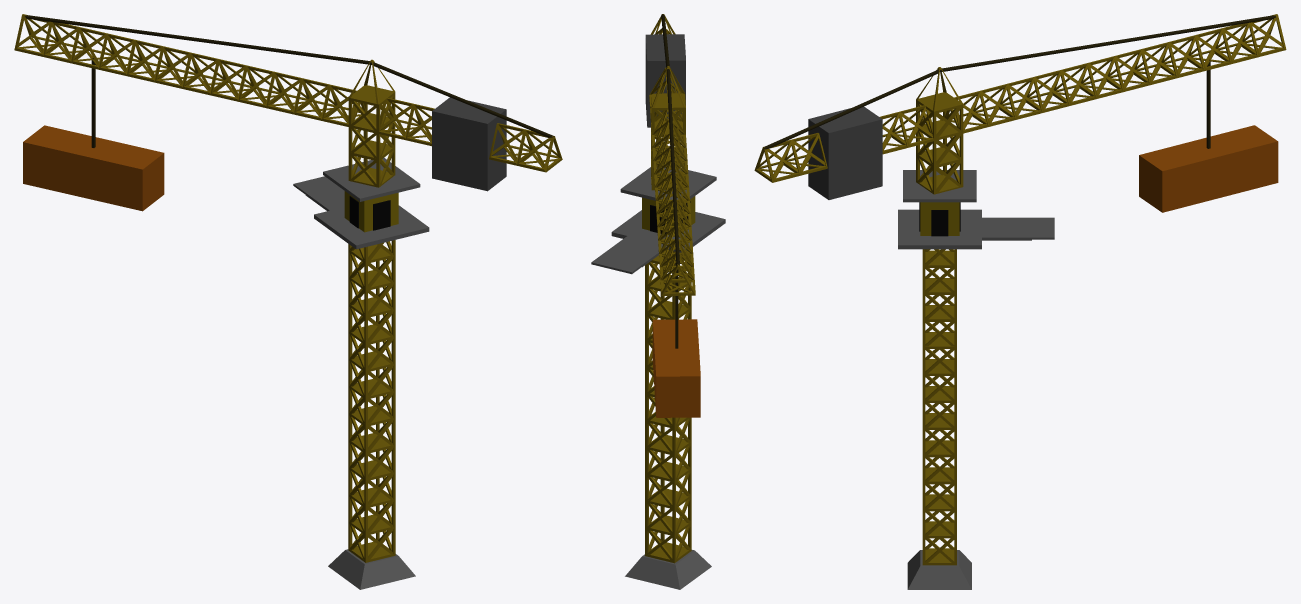
The model's file is Crane.fbx.
3 renders of one model, left to right at view 1: azimuth 30°, elevation 25°; view 2: azimuth 150°, elevation 25°; view 3: azimuth 270°, elevation 25°, orthographic.
Visible parts, largest first — view 1: upper__rotateable_, lower, box, counterweight, platform, wiring, base, cab, cab_entrance; view 2: lower, upper__rotateable_, box, platform, counterweight, base, wiring, cab, cab_entrance; view 3: upper__rotateable_, lower, box, platform, counterweight, wiring, base, cab.
Part boxes in pixels (<box>): upper__rotateable_: <box>14,14,562,187</box>; lower: <box>348,240,395,562</box>; box: <box>23,125,164,211</box>; counterweight: <box>432,97,506,191</box>; platform: <box>293,157,429,249</box>; wiring: <box>25,15,554,147</box>; base: <box>328,549,415,589</box>; cab: <box>344,191,398,232</box>; cab_entrance: <box>349,196,390,230</box>; lower: <box>645,250,691,563</box>; upper__rotateable_: <box>649,14,695,295</box>; box: <box>652,319,700,417</box>; platform: <box>591,167,725,274</box>; counterweight: <box>645,34,685,127</box>; base: <box>625,550,711,589</box>; wiring: <box>661,14,679,348</box>; cab: <box>642,196,695,236</box>; cab_entrance: <box>650,201,690,233</box>; upper__rotateable_: <box>754,14,1286,194</box>; lower: <box>922,249,956,565</box>; box: <box>1139,125,1278,212</box>; platform: <box>898,170,1054,249</box>; counterweight: <box>808,106,882,199</box>; wiring: <box>763,15,1275,149</box>; base: <box>907,550,971,589</box>; cab: <box>920,202,959,235</box>.
Size of the model in its own units: 6177 by 10082 by 9551.
